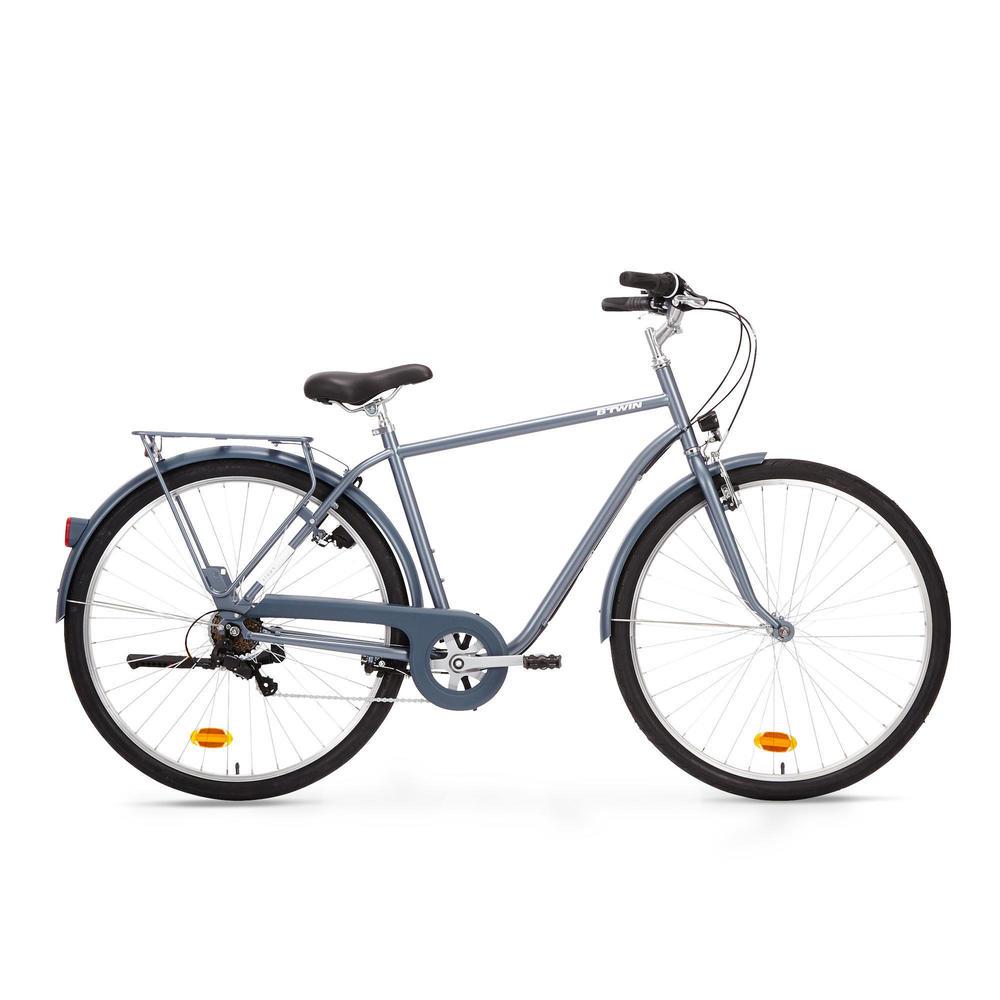UrbanBike: (51, 279, 938, 797)
